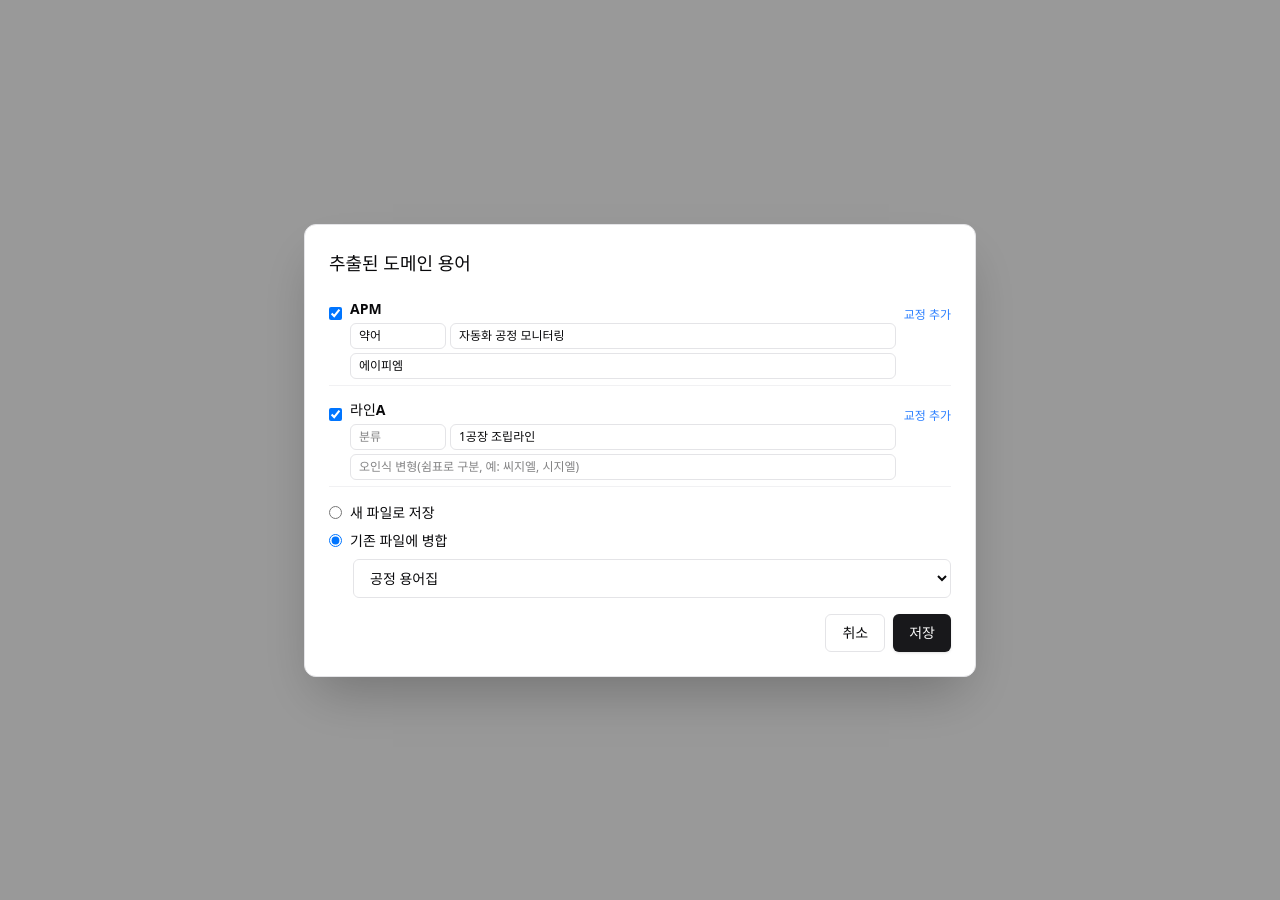
Scenario: ExtractTermsModal › 행에 오인식 변형이 있으면 [교정 추가] 클릭 시 첫 변형으로 프리필한다
The width and height of the screenshot is (1280, 900).
Click the button "교정 추가" in the row of "APM" at (927, 314), box top-left (904, 306), bottom-right (951, 322)
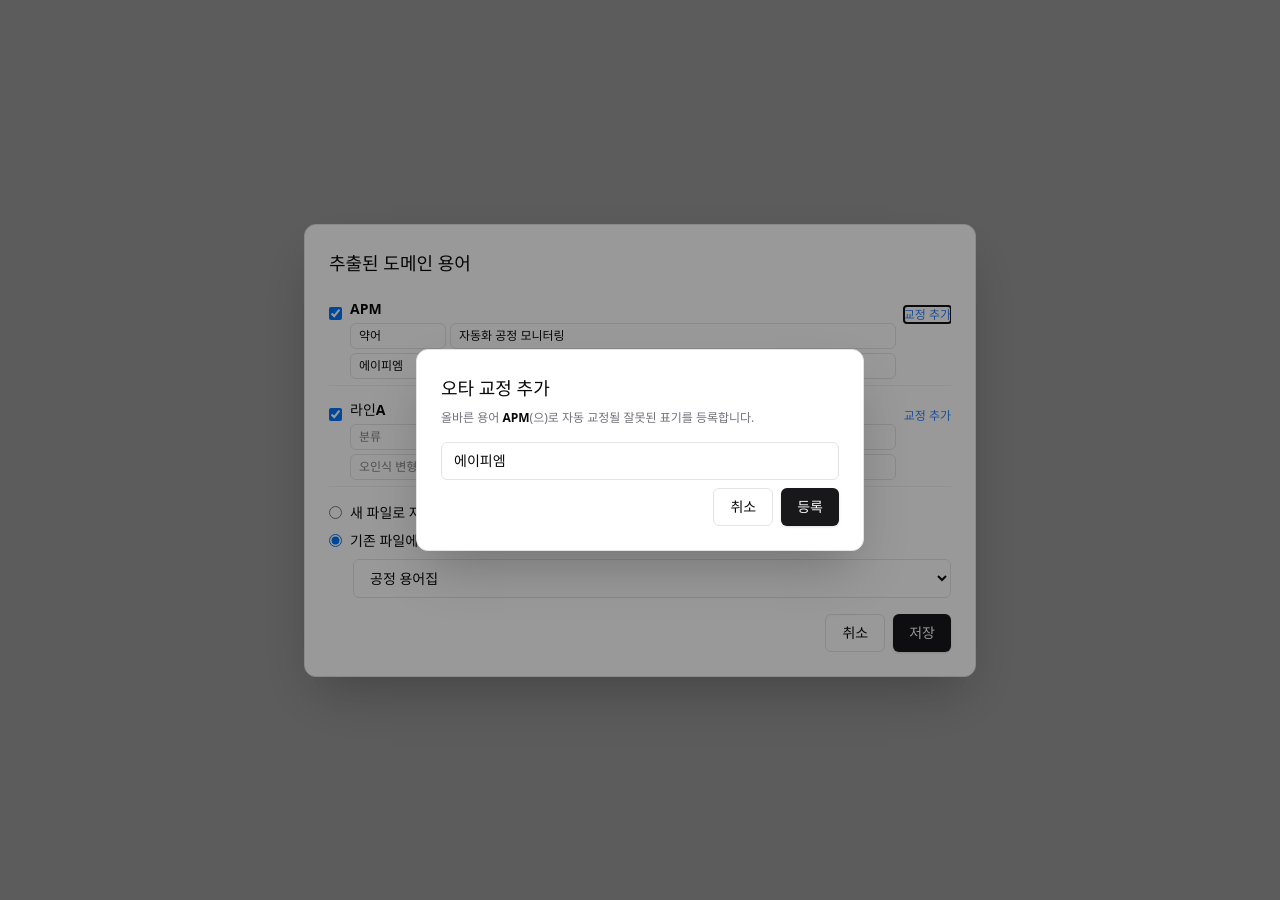
Check: the field with placeholder "잘못 인식되는 표기" holds "에이피엠", box top-left (441, 442), bottom-right (839, 480)
